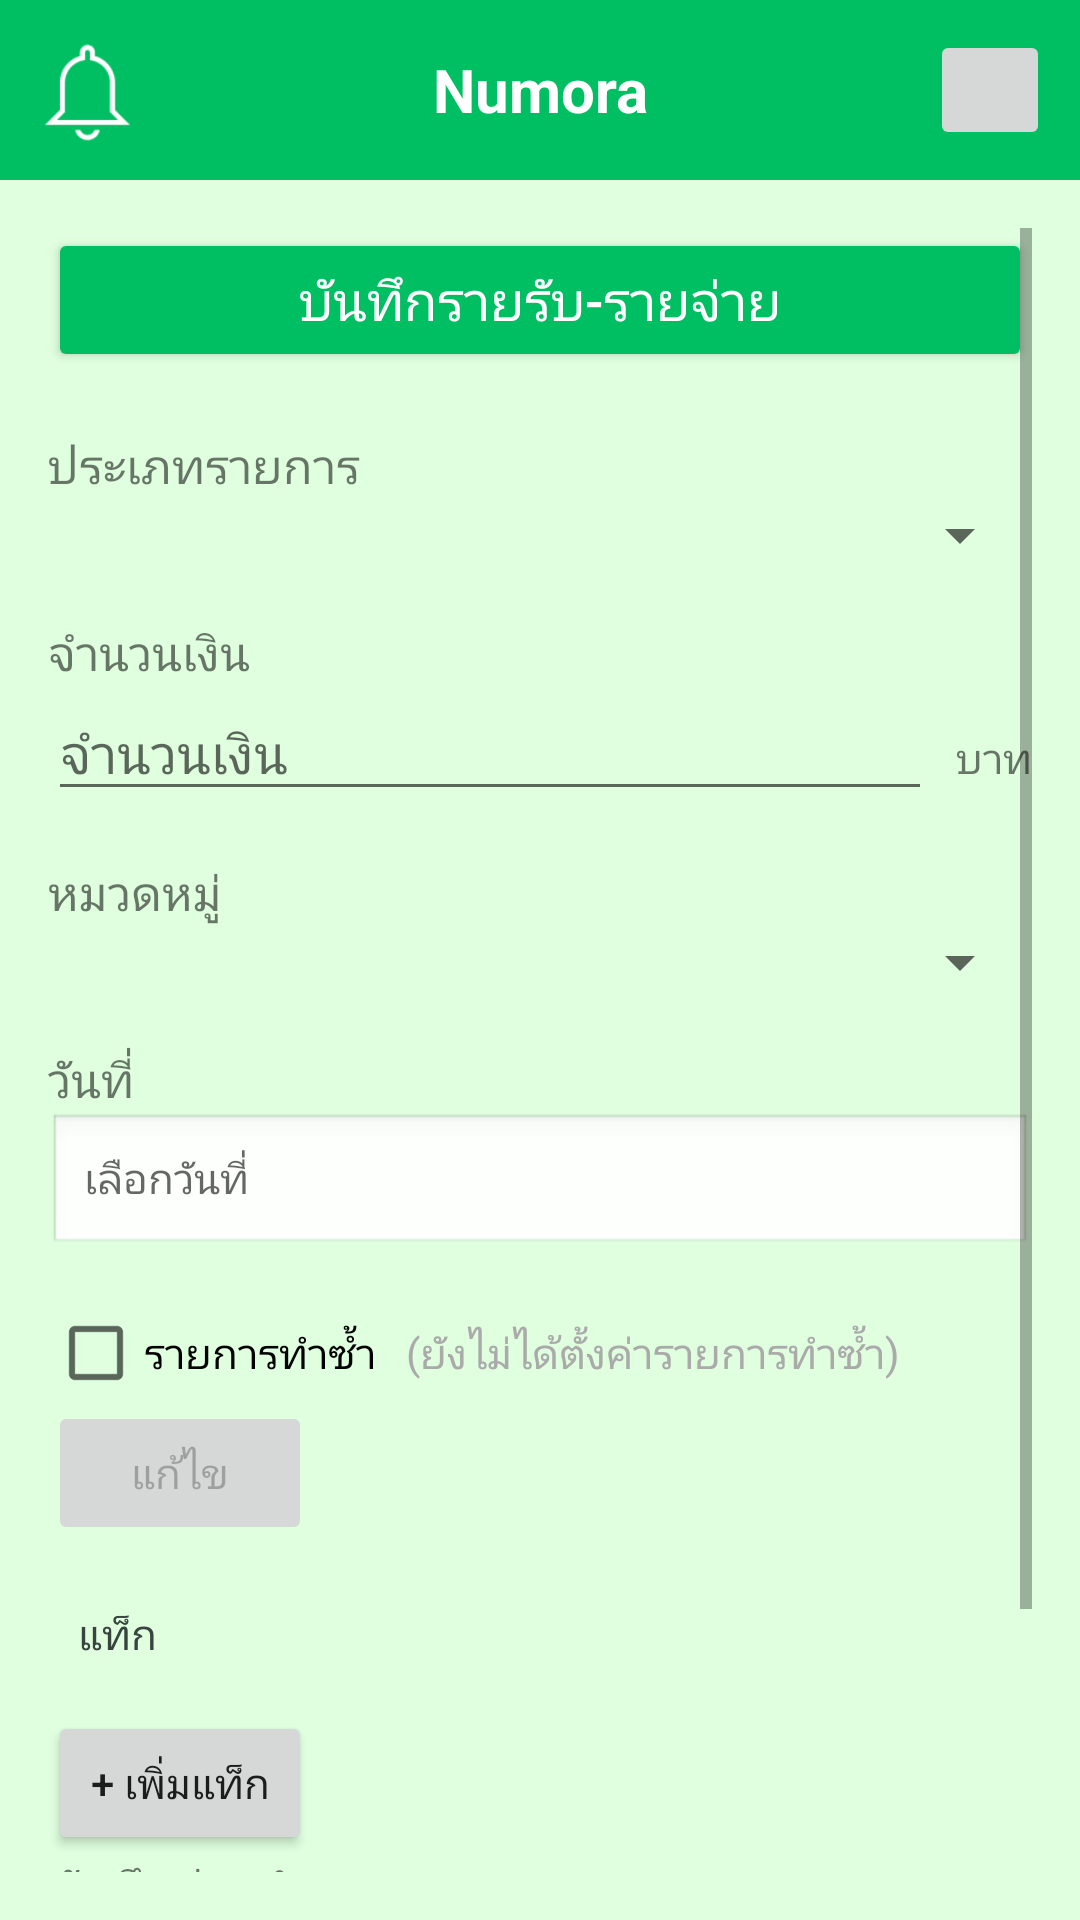

Icons on this 1080×1920 Android screen, each with its box as box=[x1, y1, x2, y2]:
notifications: box=[45, 44, 130, 141]
